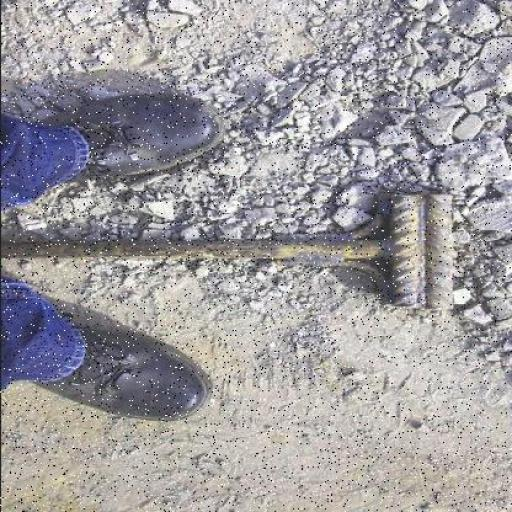safety_shoe: (16, 88, 218, 206), (18, 325, 216, 421)
